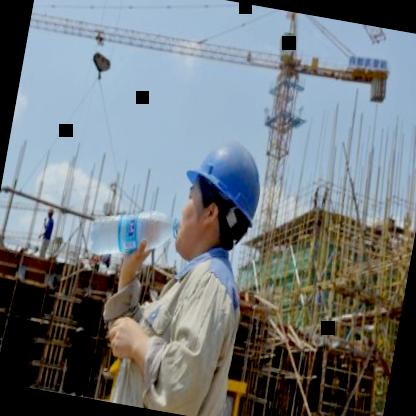helmet: (171, 122, 276, 262)
